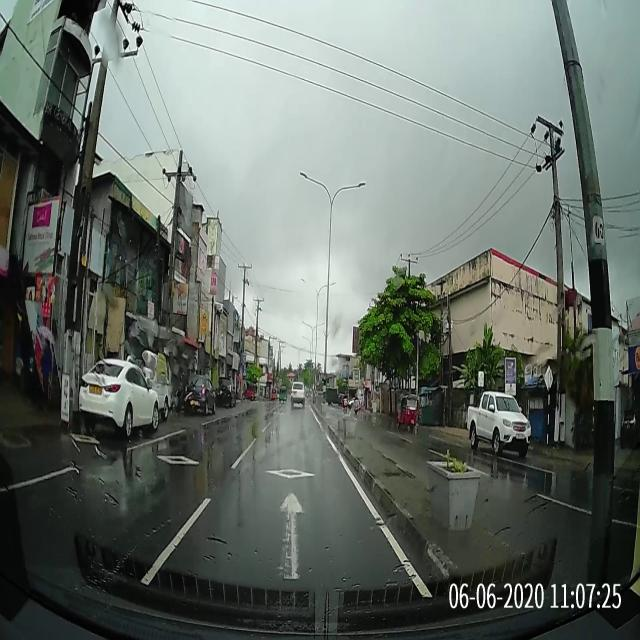Romb: (265, 469, 316, 478), (156, 455, 202, 464), (69, 433, 101, 444)
Strelka vpered: (278, 490, 305, 580)
